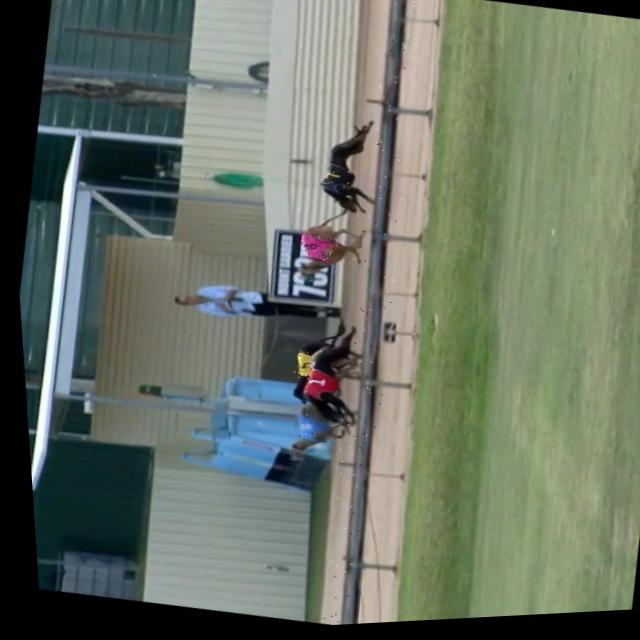dog_eight: (294, 235, 335, 266)
dog_five: (286, 349, 313, 383)
dog_four: (285, 412, 325, 446)
dog_one: (296, 367, 331, 403)
dog_seven: (315, 159, 352, 199)
rail: (332, 0, 410, 628)
